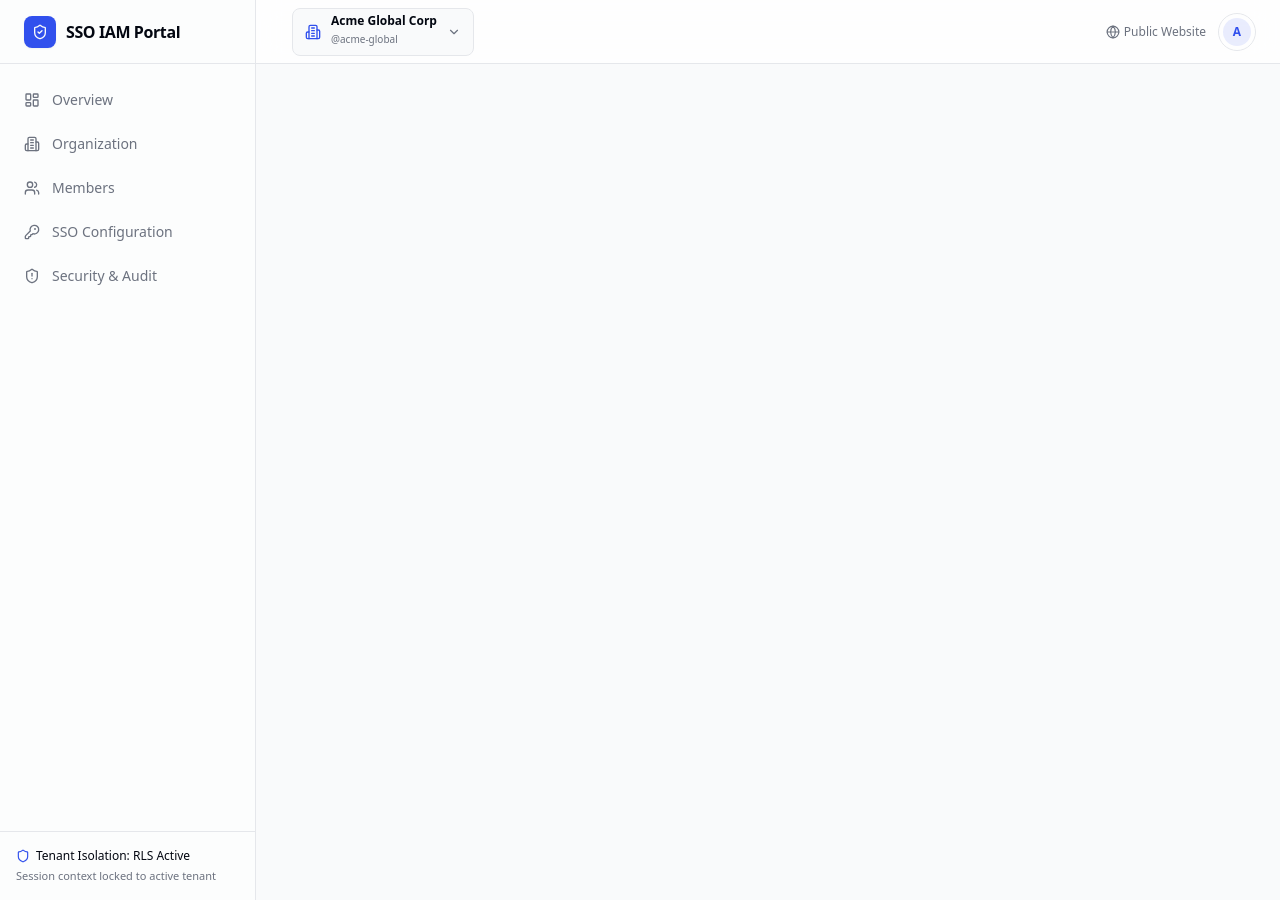
Test case: Organization Switcher in DashboardLayout › renders active organization name and allows switching
Later steps or results of the test are not shown.
Expected: the text "Acme Global Corp" is shown, [331,14,437,26]
Note: Click the organization switcher dropdown button
Click the button with aria-label "Switch Organization" at [383, 32], box [292,8,474,56]
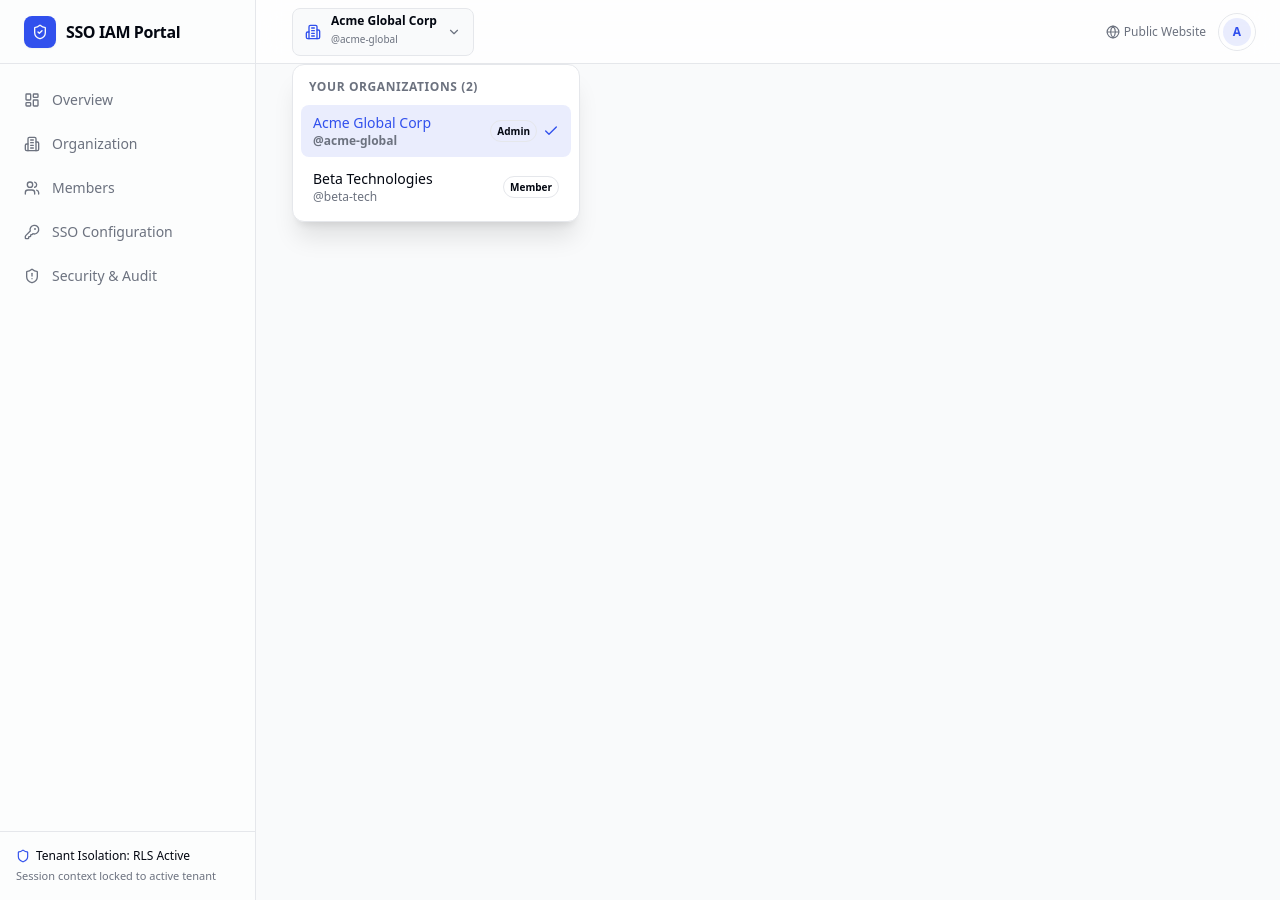
Now the text "Beta Technologies" is shown, box [313,168,433,188]
